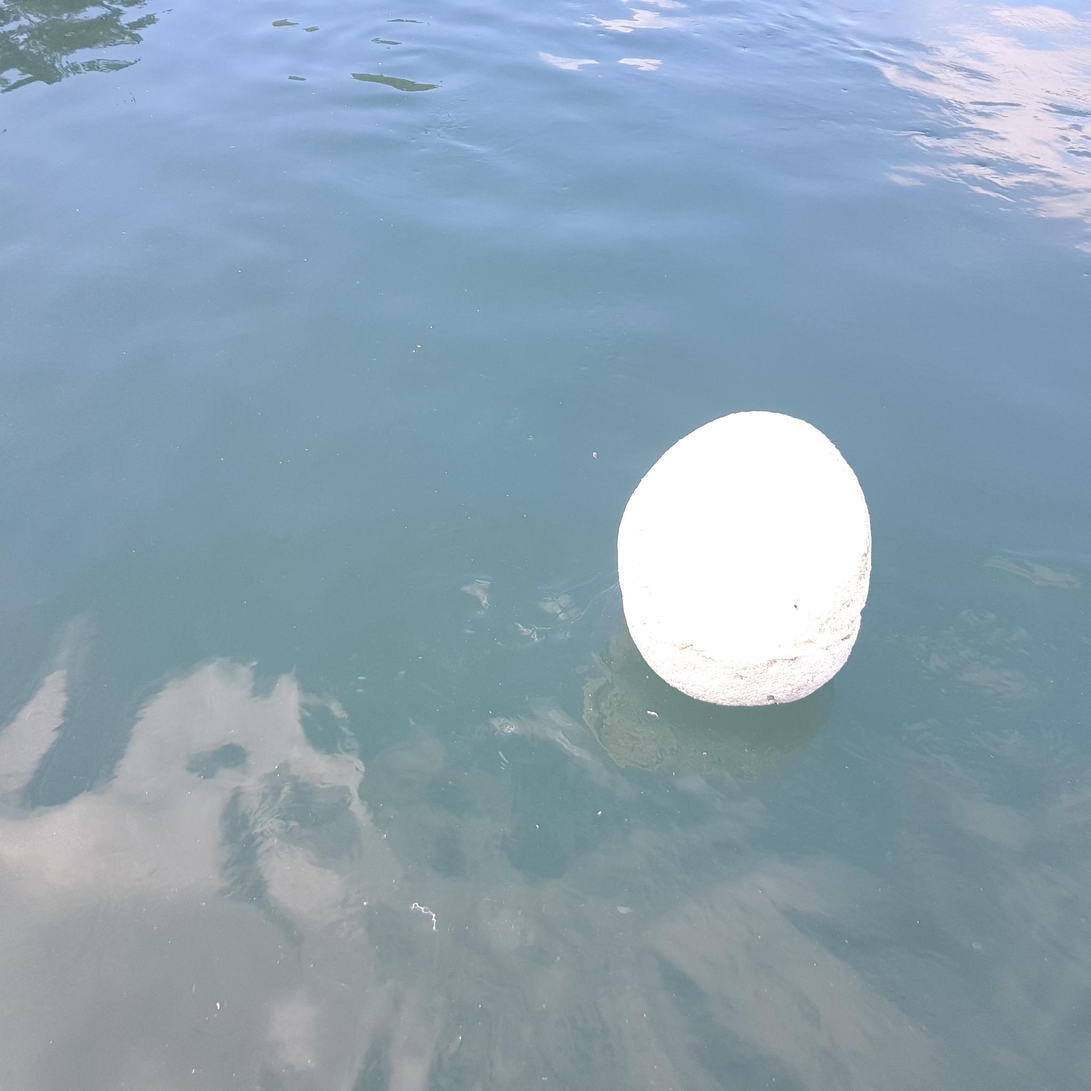sampah_terapung: (617, 411, 873, 707)
